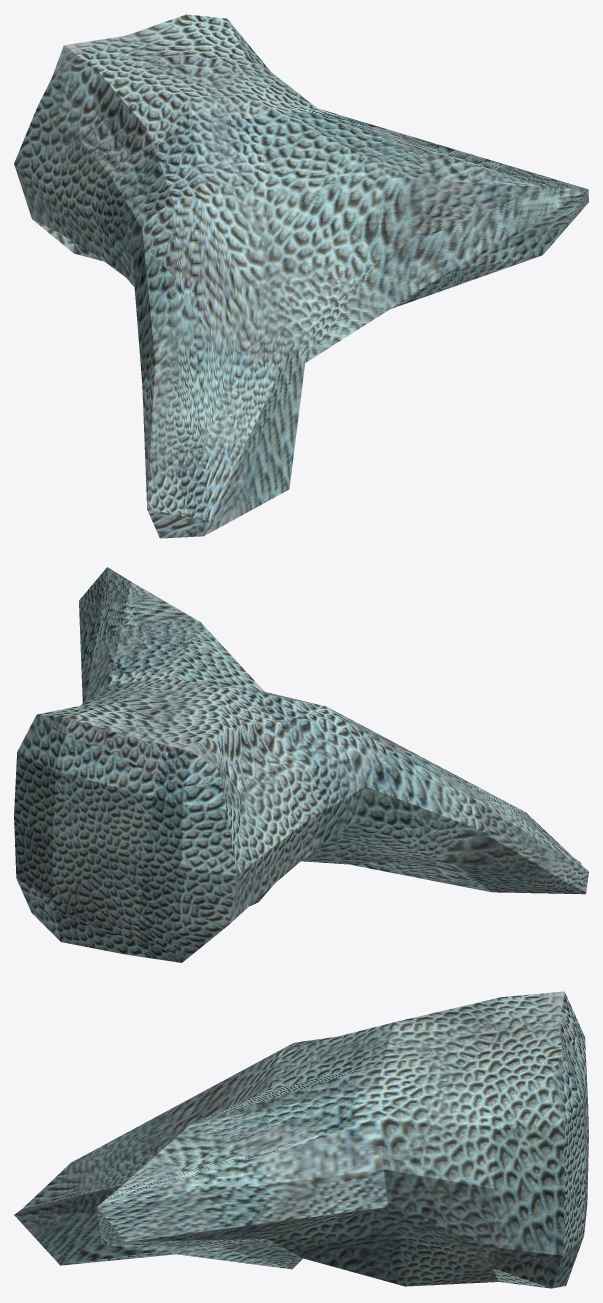
File: coral_1.fbx
3 renders of one model, top to bottom at view 1: azimuth 30°, elevation 25°; view 2: azimuth 150°, elevation 25°; view 3: azimuth 270°, elevation 25°, orthographic. The views are drawn at different scales.
Parts seen in each view (by area): view 1: Cube; view 2: Cube; view 3: Cube.
Part boxes in pixels (bbox=[...]): Cube: bbox=[14, 14, 588, 538]; Cube: bbox=[14, 567, 588, 962]; Cube: bbox=[14, 991, 588, 1288].
Size of the model in its own units: 376 by 221 by 377.
Materials: 1 (1 with a texture image).
